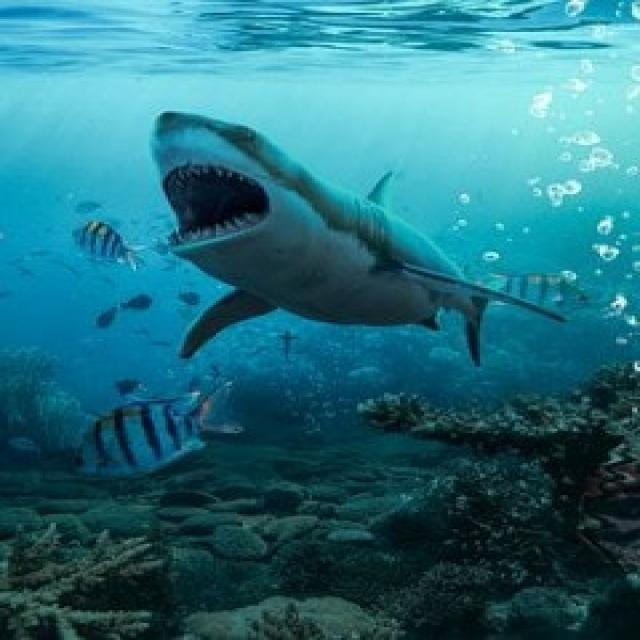Shark: (142, 95, 570, 371)
